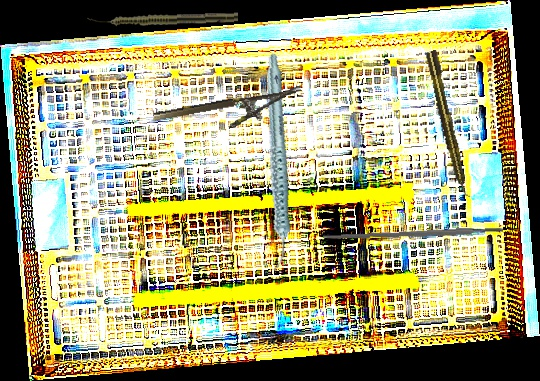Handpiece: (227, 52, 323, 273), (424, 49, 472, 200), (86, 10, 239, 28)
Needle Holder: (152, 85, 306, 142)
Scalpel Handle: (322, 226, 504, 242)
